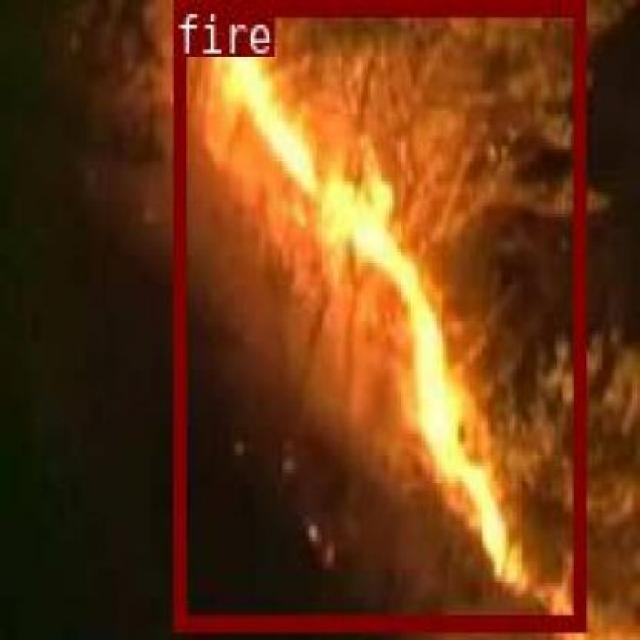Fire: (378, 314, 411, 629)
